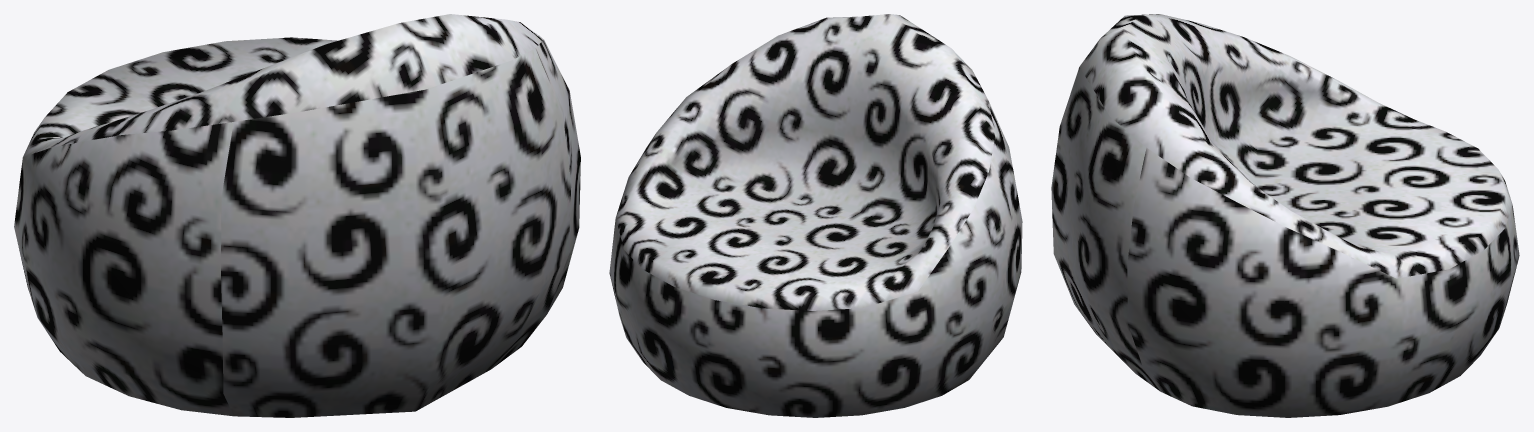
File: furni_0200429.FBX
3 renders of one model, left to right at view 1: azimuth 30°, elevation 25°; view 2: azimuth 150°, elevation 25°; view 3: azimuth 270°, elevation 25°, orthographic. The views are drawn at different scales.
Parts seen in each view (by area): view 1: furni_0200429; view 2: furni_0200429; view 3: furni_0200429.
Boxes of the visible parts, <box> form: furni_0200429: <box>14,14,580,417</box>; furni_0200429: <box>609,14,1022,417</box>; furni_0200429: <box>1051,14,1519,417</box>.
Size of the model in its own units: 70.85 by 52.08 by 72.5.
Materials: 1 (1 with a texture image).
